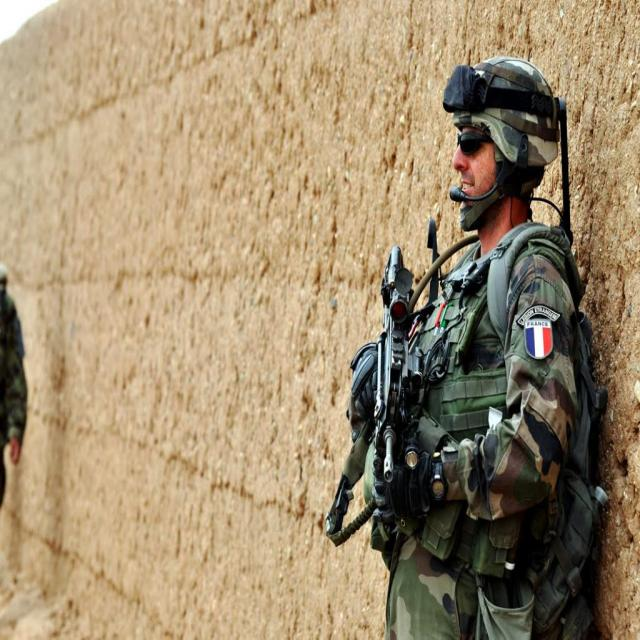Face: (449, 114, 500, 226)
